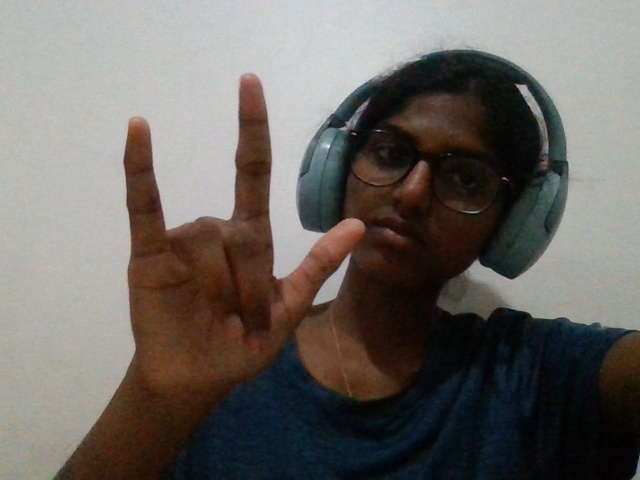I Love You: (66, 61, 374, 442)
